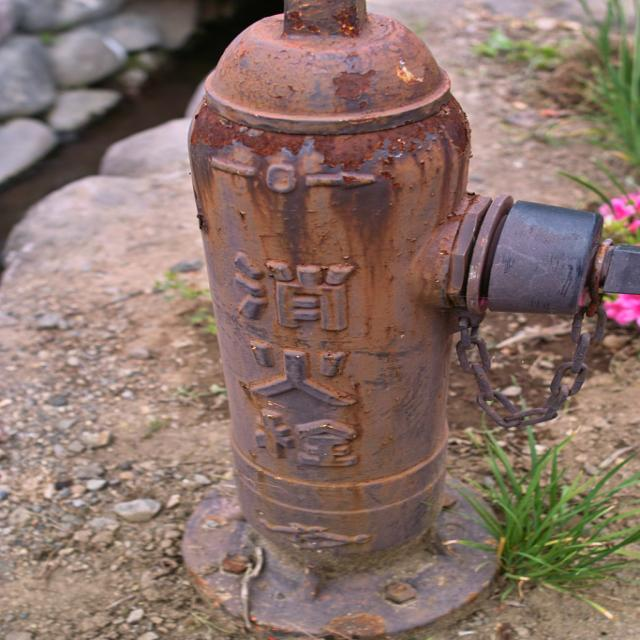fire_hydrant: (181, 0, 639, 640)
